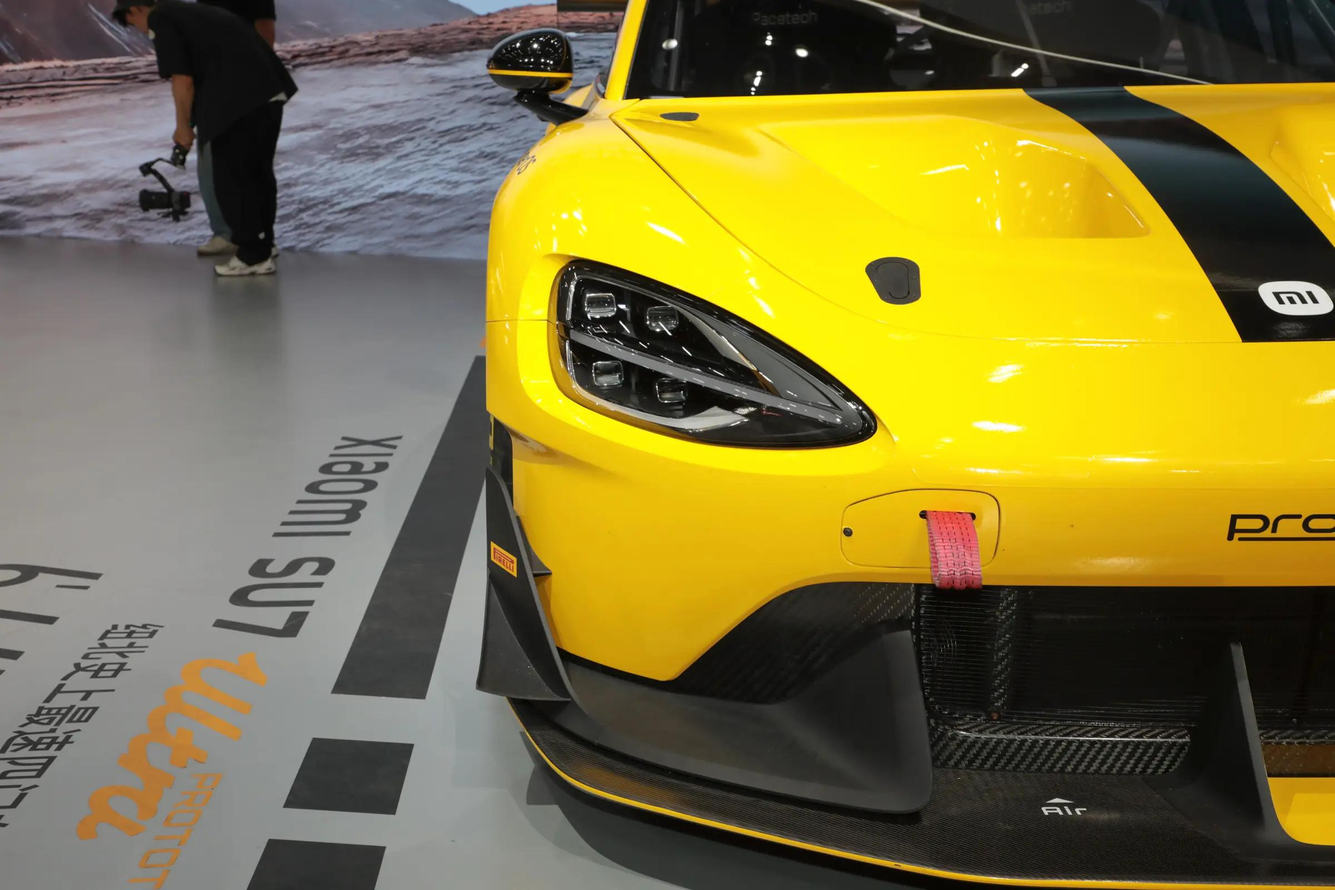XIAOMI: (1258, 281, 1333, 315)
